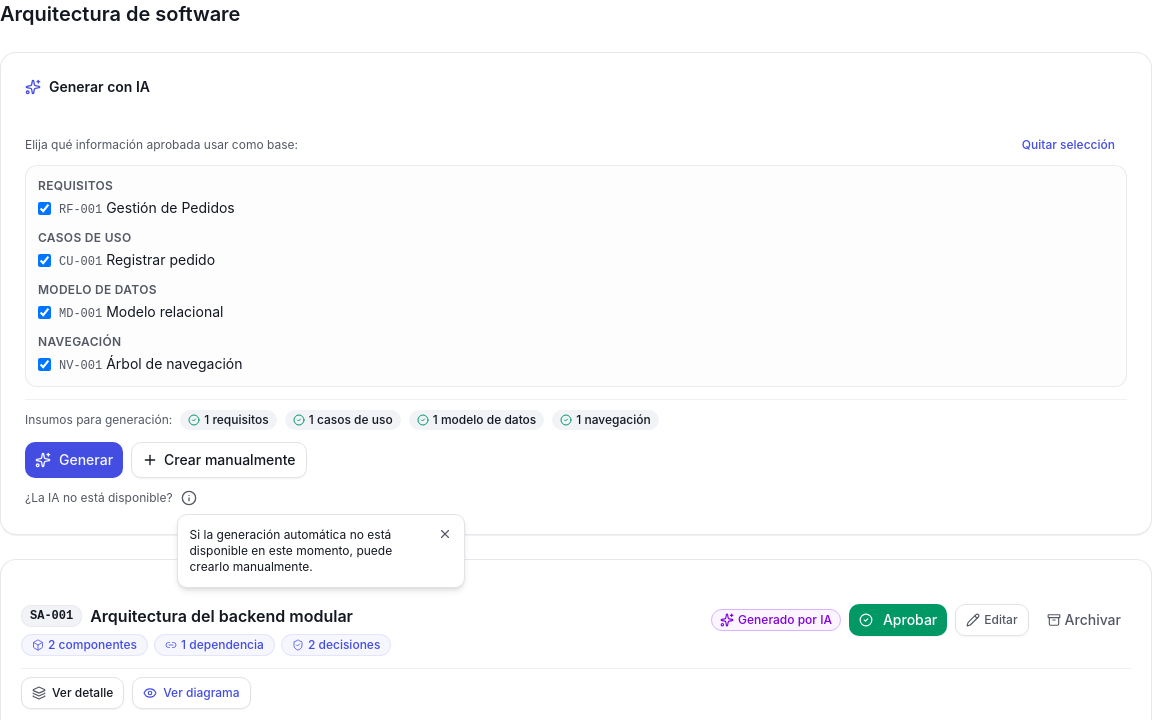
SoftwareArchitecturePage › expands detail to view architectural style banner, component cards, resolved dependency flow, and ADRs
Click the button "Ver detalle": (73, 693) [21,677,124,709]
(page scrolled)
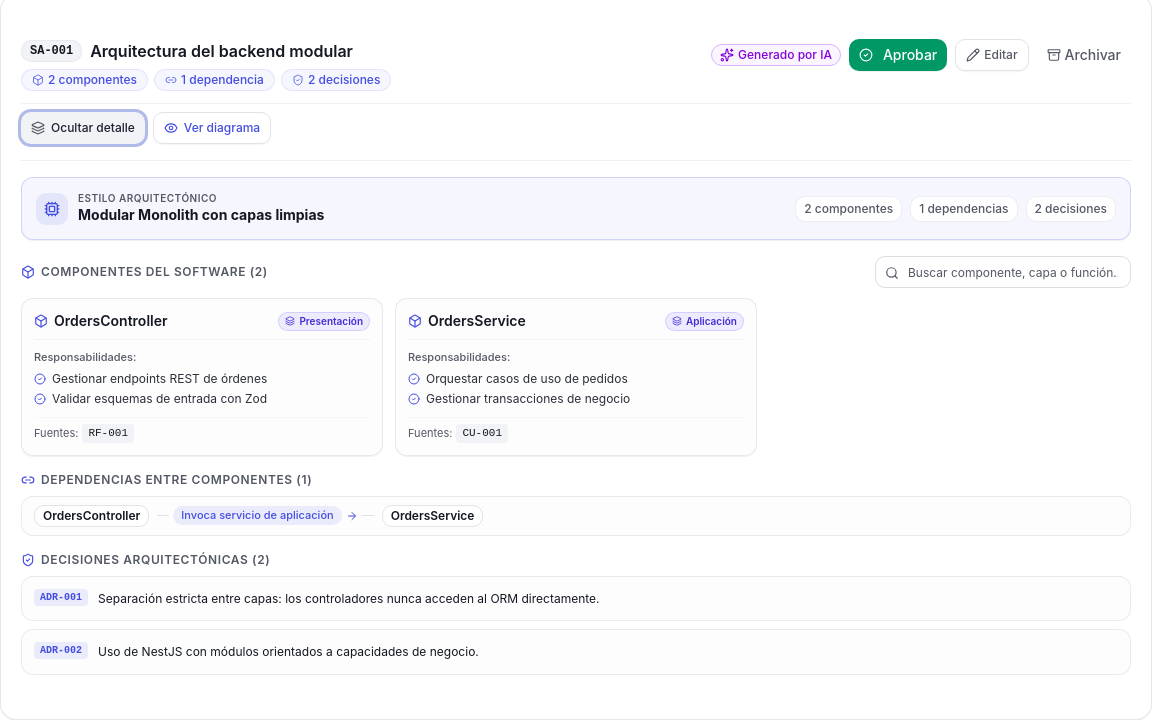
Result: the text "Estilo arquitectónico" is shown at [78,192,217,204]
Result: the text "Modular Monolith con capas limpias" is shown at [78,205,324,225]
Result: the heading "Componentes del software (2)" is shown at [21,264,268,280]
